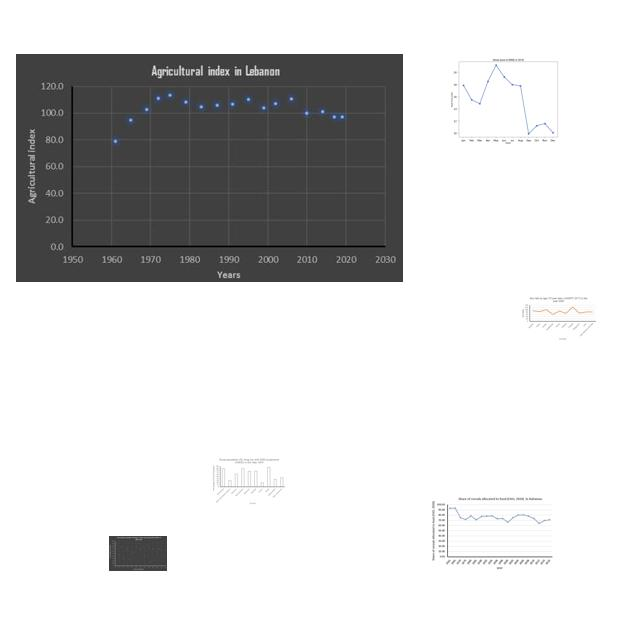Graph: (16, 54, 403, 282), (435, 50, 578, 148), (429, 495, 554, 572), (211, 458, 286, 506), (520, 296, 597, 341), (109, 536, 167, 571)
